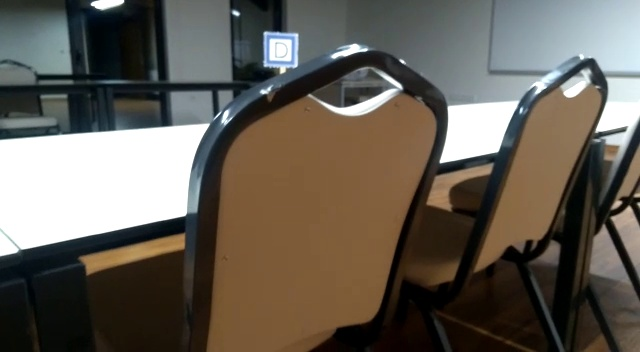durak: (262, 32, 298, 68)
